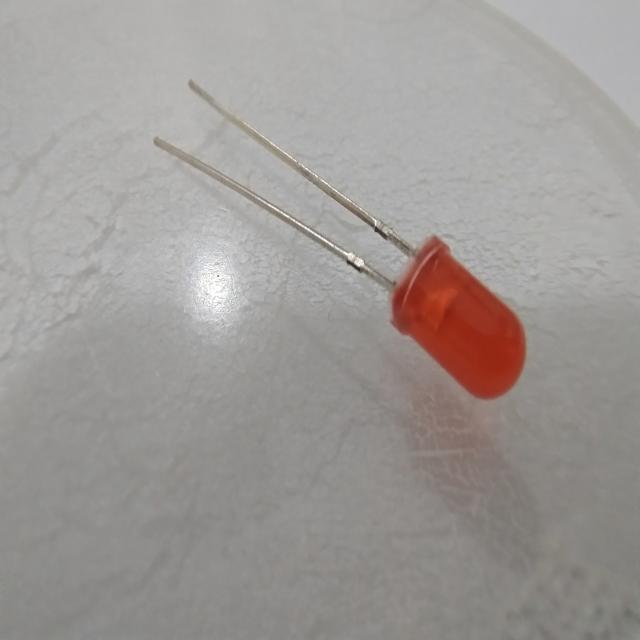red_led: (379, 208, 540, 416)
